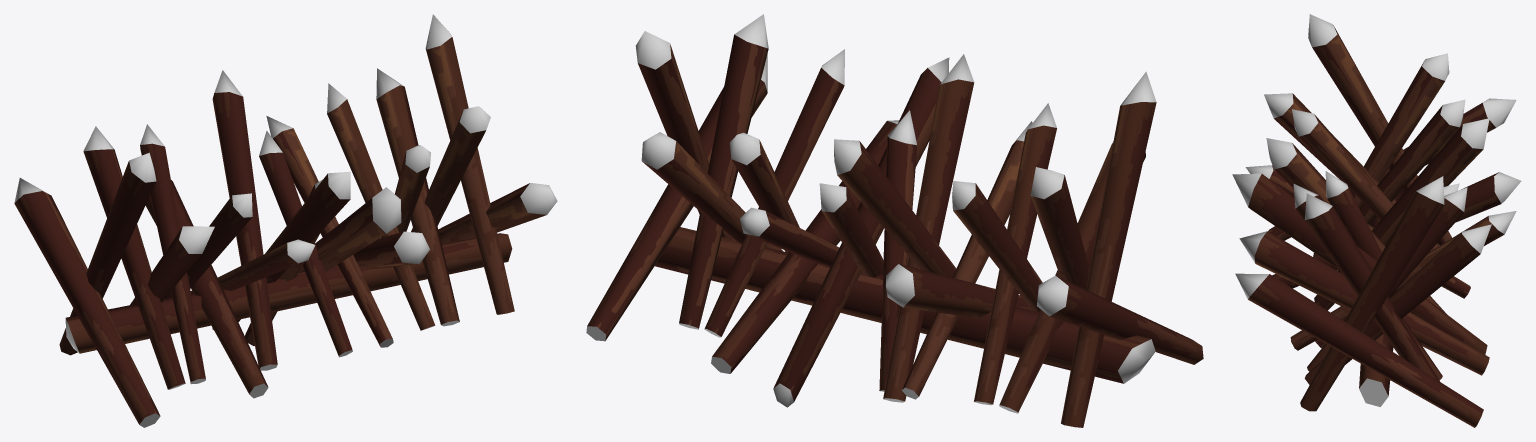
File: SM_PROP_spikes_v02_03.fbx
The picture shows the model from 3 angles, left to right: view 1: azimuth 30°, elevation 25°; view 2: azimuth 150°, elevation 25°; view 3: azimuth 270°, elevation 25°; orthographic projection. The views are drawn at different scales.
Parts seen in each view (by area): view 1: SM_PROP_spikes_v02_03; view 2: SM_PROP_spikes_v02_03; view 3: SM_PROP_spikes_v02_03.
Boxes of the visible parts, x1,y1,x2,y2 form: SM_PROP_spikes_v02_03: [14, 14, 557, 427]; SM_PROP_spikes_v02_03: [586, 14, 1203, 427]; SM_PROP_spikes_v02_03: [1232, 14, 1521, 427].
Size of the model in its own units: 346 by 208 by 214.
